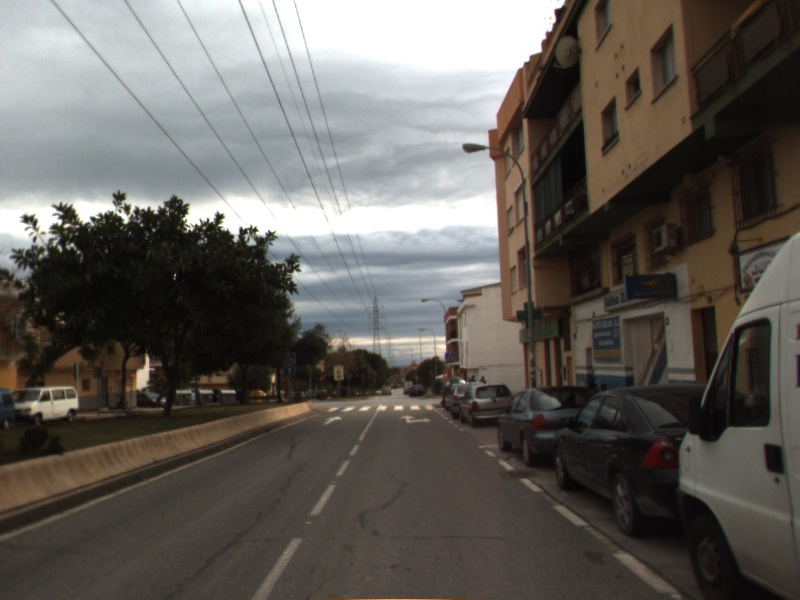STRAIGHT: (321, 414, 345, 427)
STRAIGHT_RIGHT: (398, 412, 434, 425)
